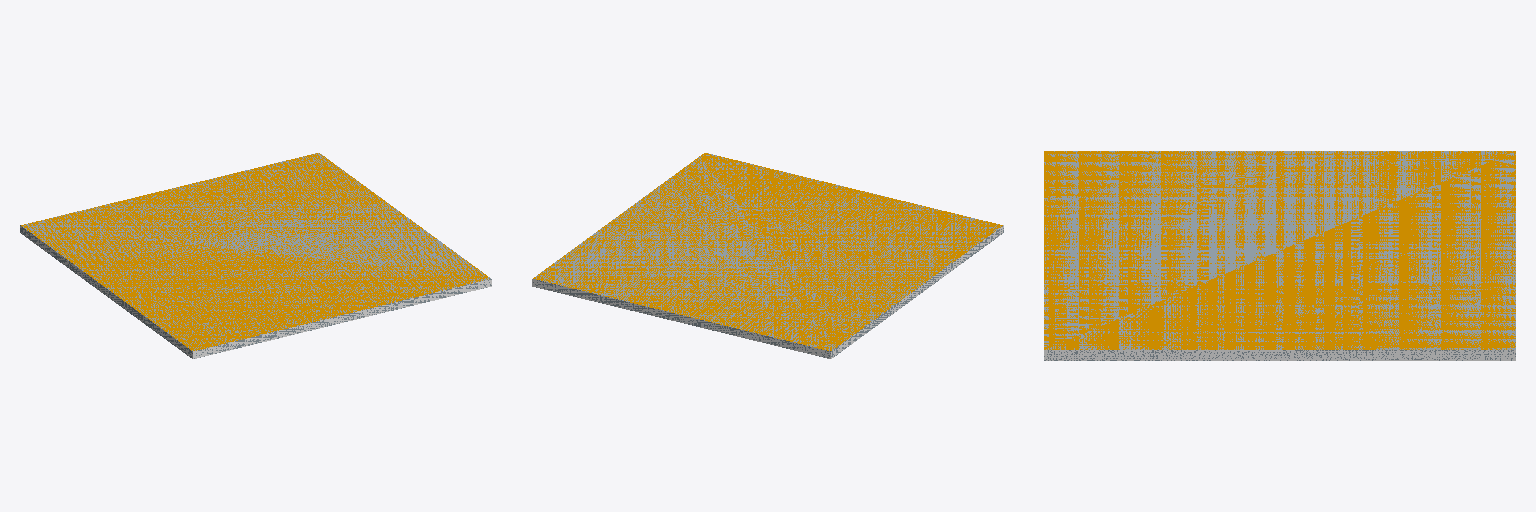
robot.urdf — free_marker_18:
<?xml version="1.0"?>

<robot name="free_marker_18">

  <link name="my_box">    
    <visual>      
        <geometry>
            <mesh filename="package://bite_drive_between_targets/meshes/marker18.dae"/>
        </geometry>
    </visual>

    <inertial>      
      <mass value="0.0001"/>
      <inertia ixx="1.0" ixy="0.0" ixz="0.0" iyy="1.0" iyz="0.0" izz="1.0"/>
    </inertial>
    <collision>     
      <geometry>
        <box size="0.2 0.2 0.001" />

      </geometry>
    </collision>
  </link>  


</robot>

--- Render facts (derived) ---
3 views of the same robot in one strip: view 1: azimuth 30°, elevation 25°; view 2: azimuth 150°, elevation 25°; view 3: azimuth 270°, elevation 25° (orthographic).
Robot: free_marker_18 — 1 links, 0 joints (none); root link my_box; default pose: every joint at zero.
Links seen in each view (by area): view 1: my_box; view 2: my_box; view 3: my_box.
Link boxes in pixels (<box>): my_box: <box>20,153,491,358</box>; my_box: <box>532,153,1003,358</box>; my_box: <box>1044,151,1515,360</box>.
Size in the robot's own frame: 0.199 by 0.199 by 0.005 metres.
Meshes: 1 distinct files referenced, 1 mesh visuals loaded (1 Collada DAE).